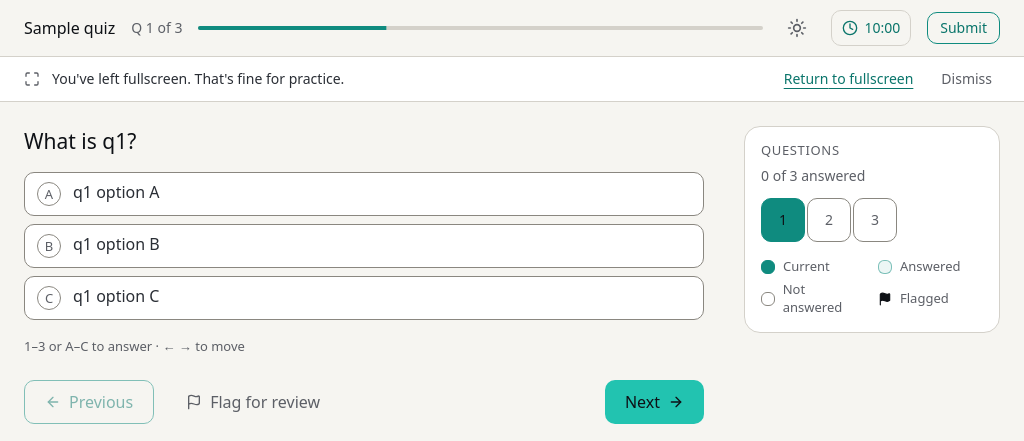
Test: answering › moves focus to the question when the question changes
Click the button "Next": (654, 402) x1=605 y1=380 x2=704 y2=424
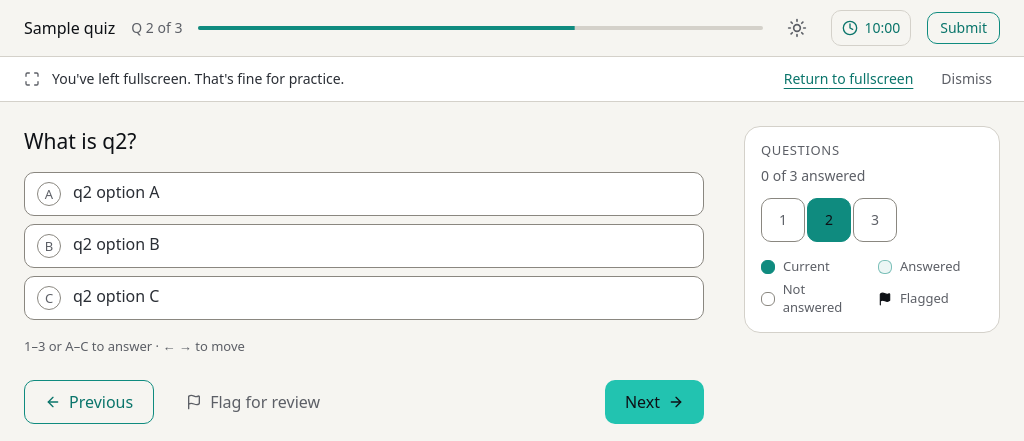
Result: the element "What is q2?" is shown at x1=24 y1=127 x2=136 y2=155
